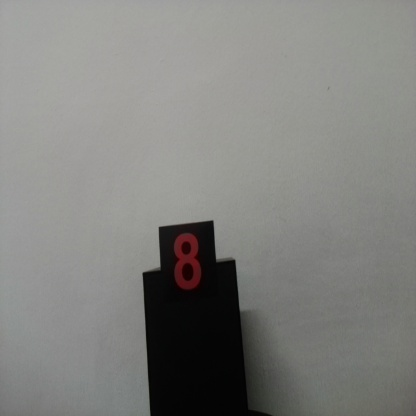id_8: (160, 227, 216, 312)
